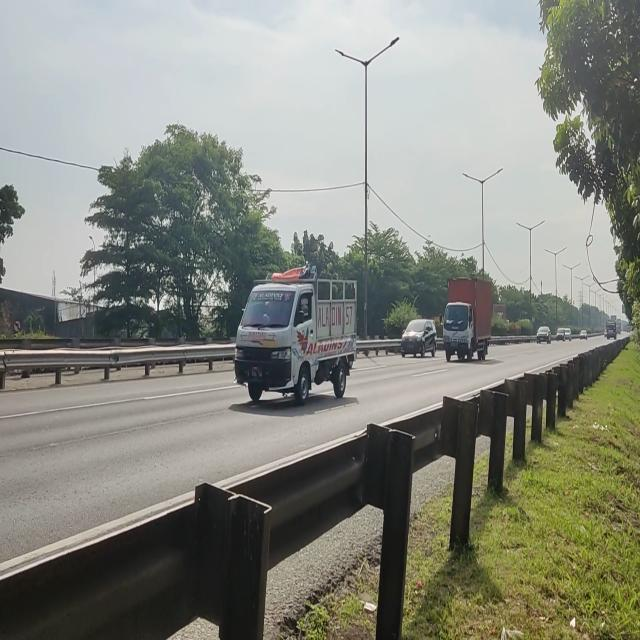Golongan I: (233, 270, 357, 405), (399, 314, 437, 364)
